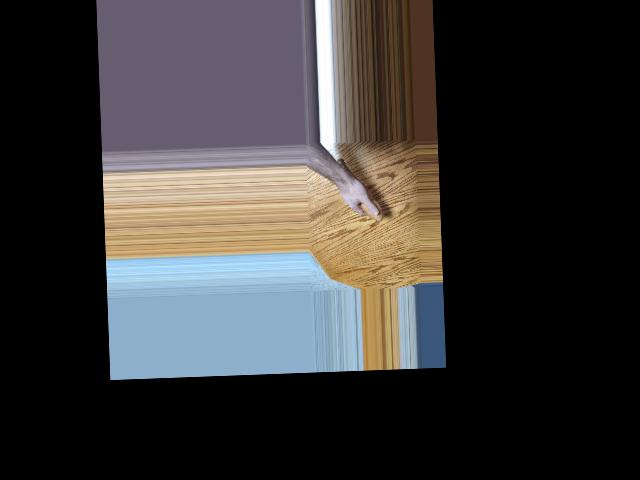sweet_potato: (338, 155, 384, 223)
